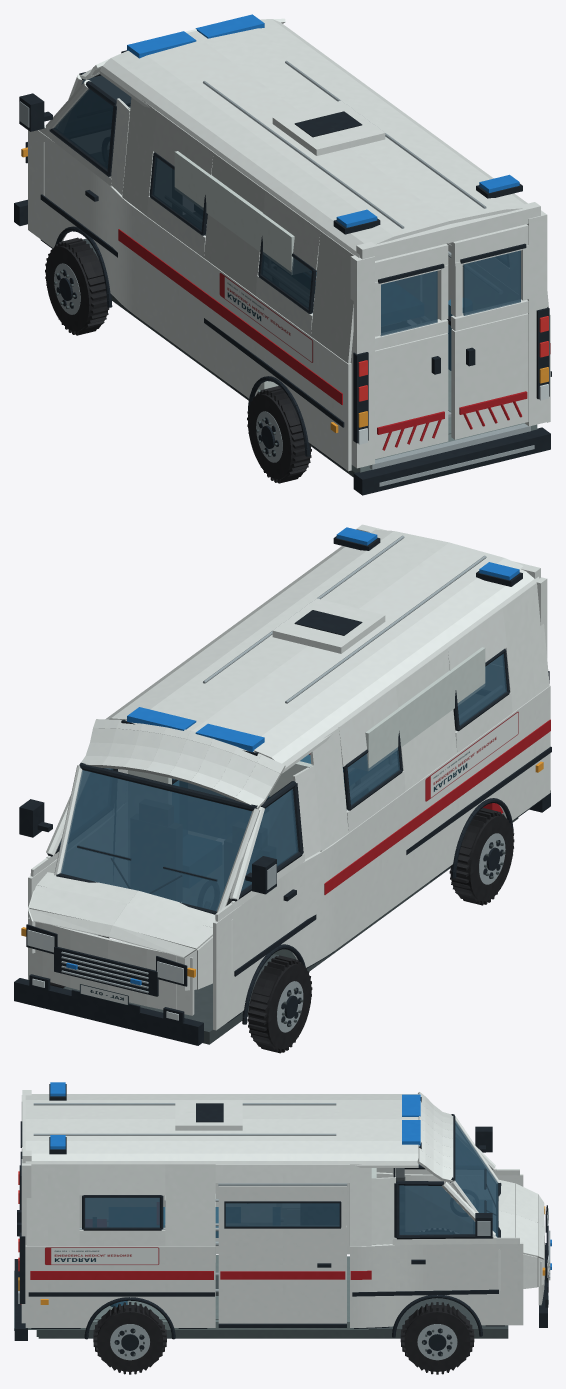
3 renders of one model, top to bottom at view 1: azimuth 30°, elevation 25°; view 2: azimuth 150°, elevation 25°; view 3: azimuth 270°, elevation 25°, orthographic. The views are drawn at different scales.
Visible parts, largest first — view 1: VIS_K3D-0154_Marked_ambulance_van_LOD0_BodyWhite, VIS_K3D-0154_Marked_ambulance_van_LOD0_SlateTrim, VIS_K3D-0154_Marked_ambulance_van_LOD0_WindowGlass, VIS_K3D-0154_Marked_ambulance_van_LOD0_Rubber, VIS_K3D-0154_Marked_ambulance_van_LOD0_BrushedAlloy, VIS_K3D-0154_Marked_ambulance_van_LOD0_CareWhite, VIS_K3D-0154_Marked_ambulance_van_LOD0_RescueRed, VIS_K3D-0154_Marked_ambulance_van_LOD0_BlueLED, VIS_K3D-0154_Marked_ambulance_van_LOD0_Decal_Side, VIS_K3D-0154_Marked_ambulance_van_LOD0_SuspensionMetal, VIS_K3D-0154_Marked_ambulance_van_LOD0_MedicalFloor, VIS_K3D-0154_Marked_ambulance_van_LOD0_RedLED; view 2: VIS_K3D-0154_Marked_ambulance_van_LOD0_BodyWhite, VIS_K3D-0154_Marked_ambulance_van_LOD0_WindowGlass, VIS_K3D-0154_Marked_ambulance_van_LOD0_SlateTrim, VIS_K3D-0154_Marked_ambulance_van_LOD0_Rubber, VIS_K3D-0154_Marked_ambulance_van_LOD0_CareWhite, VIS_K3D-0154_Marked_ambulance_van_LOD0_BrushedAlloy, VIS_K3D-0154_Marked_ambulance_van_LOD0_RescueRed, VIS_K3D-0154_Marked_ambulance_van_LOD0_BlueLED, VIS_K3D-0154_Marked_ambulance_van_LOD0_Decal_Side, VIS_K3D-0154_Marked_ambulance_van_LOD0_SuspensionMetal, VIS_K3D-0154_Marked_ambulance_van_LOD0_WhiteLens; view 3: VIS_K3D-0154_Marked_ambulance_van_LOD0_BodyWhite, VIS_K3D-0154_Marked_ambulance_van_LOD0_SlateTrim, VIS_K3D-0154_Marked_ambulance_van_LOD0_WindowGlass, VIS_K3D-0154_Marked_ambulance_van_LOD0_Rubber, VIS_K3D-0154_Marked_ambulance_van_LOD0_BrushedAlloy, VIS_K3D-0154_Marked_ambulance_van_LOD0_SuspensionMetal, VIS_K3D-0154_Marked_ambulance_van_LOD0_RescueRed, VIS_K3D-0154_Marked_ambulance_van_LOD0_Decal_Side, VIS_K3D-0154_Marked_ambulance_van_LOD0_BlueLED, VIS_K3D-0154_Marked_ambulance_van_LOD0_MedicalFloor.
Part boxes in pixels (x1,y1,x2,y2): VIS_K3D-0154_Marked_ambulance_van_LOD0_BodyWhite: (28, 18, 550, 471); VIS_K3D-0154_Marked_ambulance_van_LOD0_SlateTrim: (14, 50, 551, 495); VIS_K3D-0154_Marked_ambulance_van_LOD0_WindowGlass: (54, 75, 520, 336); VIS_K3D-0154_Marked_ambulance_van_LOD0_Rubber: (45, 237, 311, 483); VIS_K3D-0154_Marked_ambulance_van_LOD0_BrushedAlloy: (19, 60, 534, 486); VIS_K3D-0154_Marked_ambulance_van_LOD0_CareWhite: (128, 107, 294, 390); VIS_K3D-0154_Marked_ambulance_van_LOD0_RescueRed: (118, 229, 550, 450); VIS_K3D-0154_Marked_ambulance_van_LOD0_BlueLED: (127, 14, 519, 227); VIS_K3D-0154_Marked_ambulance_van_LOD0_Decal_Side: (219, 273, 313, 362); VIS_K3D-0154_Marked_ambulance_van_LOD0_SuspensionMetal: (54, 220, 450, 477); VIS_K3D-0154_Marked_ambulance_van_LOD0_MedicalFloor: (257, 294, 537, 472); VIS_K3D-0154_Marked_ambulance_van_LOD0_RedLED: (358, 316, 548, 401); VIS_K3D-0154_Marked_ambulance_van_LOD0_BodyWhite: (28, 524, 550, 1030); VIS_K3D-0154_Marked_ambulance_van_LOD0_WindowGlass: (59, 653, 506, 911); VIS_K3D-0154_Marked_ambulance_van_LOD0_SlateTrim: (14, 536, 551, 1045); VIS_K3D-0154_Marked_ambulance_van_LOD0_Rubber: (50, 808, 514, 1053); VIS_K3D-0154_Marked_ambulance_van_LOD0_CareWhite: (128, 647, 485, 796); VIS_K3D-0154_Marked_ambulance_van_LOD0_BrushedAlloy: (61, 535, 505, 1032); VIS_K3D-0154_Marked_ambulance_van_LOD0_RescueRed: (309, 719, 550, 894); VIS_K3D-0154_Marked_ambulance_van_LOD0_BlueLED: (66, 527, 519, 985); VIS_K3D-0154_Marked_ambulance_van_LOD0_Decal_Side: (425, 711, 518, 801); VIS_K3D-0154_Marked_ambulance_van_LOD0_SuspensionMetal: (63, 818, 518, 1044); VIS_K3D-0154_Marked_ambulance_van_LOD0_WhiteLens: (27, 929, 183, 1020); VIS_K3D-0154_Marked_ambulance_van_LOD0_BodyWhite: (21, 1090, 544, 1327); VIS_K3D-0154_Marked_ambulance_van_LOD0_SlateTrim: (14, 1084, 548, 1356); VIS_K3D-0154_Marked_ambulance_van_LOD0_WindowGlass: (85, 1120, 498, 1237); VIS_K3D-0154_Marked_ambulance_van_LOD0_Rubber: (93, 1302, 474, 1374); VIS_K3D-0154_Marked_ambulance_van_LOD0_BrushedAlloy: (14, 1103, 550, 1360); VIS_K3D-0154_Marked_ambulance_van_LOD0_SuspensionMetal: (36, 1275, 508, 1356); VIS_K3D-0154_Marked_ambulance_van_LOD0_RescueRed: (20, 1270, 371, 1304); VIS_K3D-0154_Marked_ambulance_van_LOD0_Decal_Side: (45, 1247, 159, 1264); VIS_K3D-0154_Marked_ambulance_van_LOD0_BlueLED: (50, 1082, 551, 1269); VIS_K3D-0154_Marked_ambulance_van_LOD0_MedicalFloor: (28, 1255, 368, 1329).
Size of the model in its own units: 2.6 by 2.92 by 6.42.
17 materials, 17 textured.
